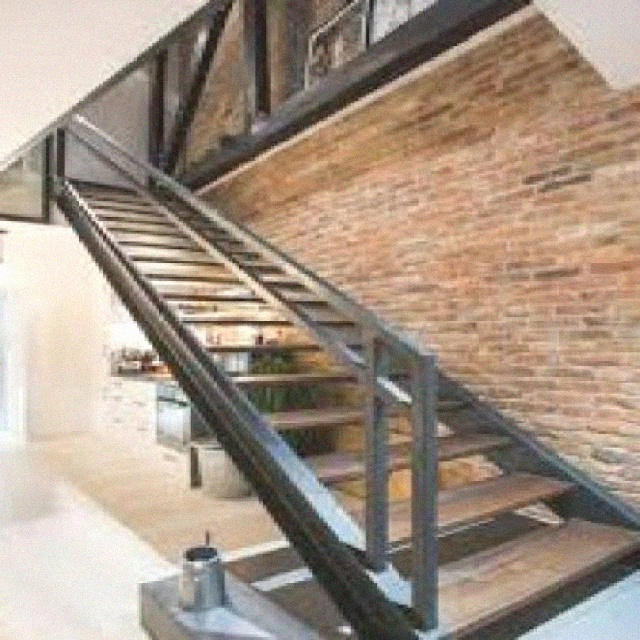stair: (52, 48, 640, 638)
